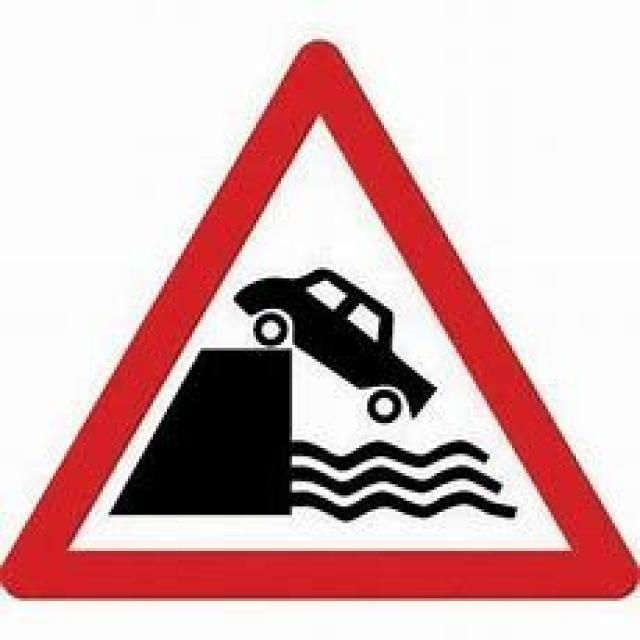quay side or river bank: (25, 36, 613, 601)
